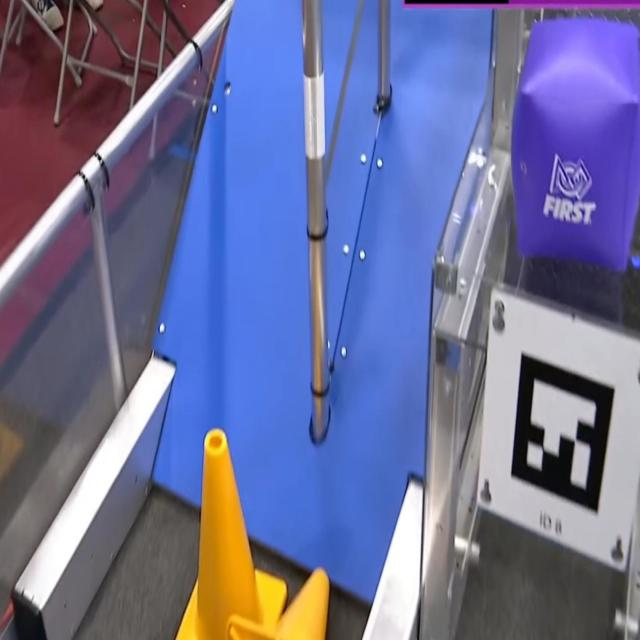frc_cone: (176, 426, 292, 640), (222, 563, 340, 640)
frc_cube: (507, 24, 640, 266)
